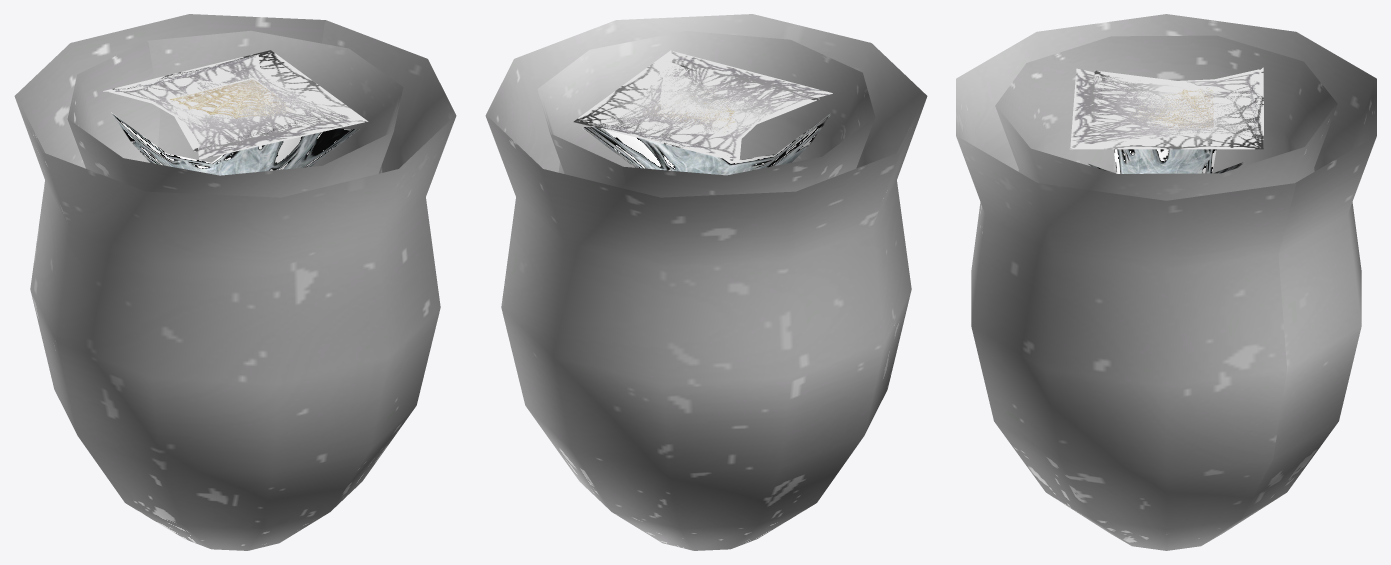
File: Z_ZhiZhuWang.fbx
The picture shows the model from 3 angles, left to right: view 1: azimuth 30°, elevation 25°; view 2: azimuth 150°, elevation 25°; view 3: azimuth 270°, elevation 25°; orthographic projection.
Parts seen in each view (by area): view 1: zhizhuwang_6, zhizhuwang_1, zhizhuwang_2, zhizhuwang_3, zhizhuwang_5, zhizhuwang_4; view 2: zhizhuwang_6, zhizhuwang_1, zhizhuwang_4, zhizhuwang_2, zhizhuwang_5, zhizhuwang_3; view 3: zhizhuwang_6, zhizhuwang_1, zhizhuwang_5, zhizhuwang_4, zhizhuwang_2, zhizhuwang_3.
Boxes of the visible parts, x1,y1,x2,y2 form: zhizhuwang_6: (14,14,456,550); zhizhuwang_1: (109,54,364,159); zhizhuwang_2: (111,112,359,175); zhizhuwang_3: (168,77,289,118); zhizhuwang_5: (103,50,368,121); zhizhuwang_4: (171,80,348,151); zhizhuwang_6: (485,14,927,550); zhizhuwang_1: (590,51,832,160); zhizhuwang_4: (660,61,819,134); zhizhuwang_2: (582,113,830,175); zhizhuwang_5: (573,50,741,162); zhizhuwang_3: (641,90,737,134); zhizhuwang_6: (956,14,1376,550); zhizhuwang_1: (1070,68,1262,147); zhizhuwang_5: (1070,67,1263,149); zhizhuwang_4: (1094,70,1236,145); zhizhuwang_2: (1088,149,1244,173); zhizhuwang_3: (1130,87,1216,128).
Size of the model in its own units: 1.13 by 1.24 by 1.08.
